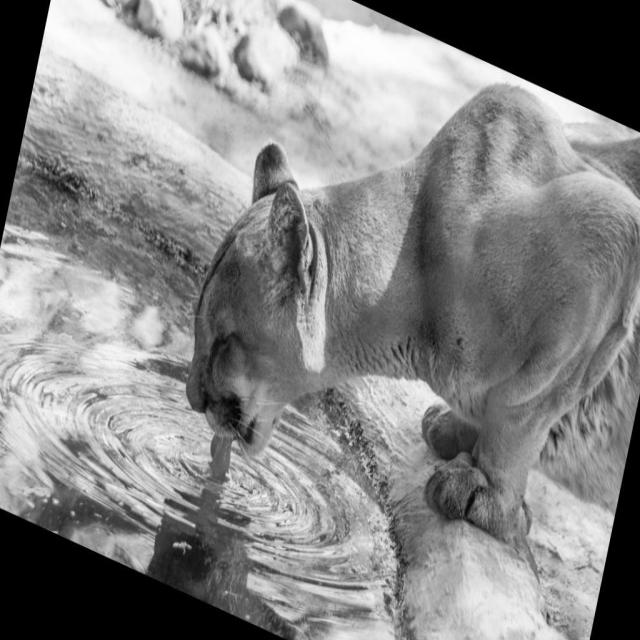Lion: (168, 0, 640, 639)
